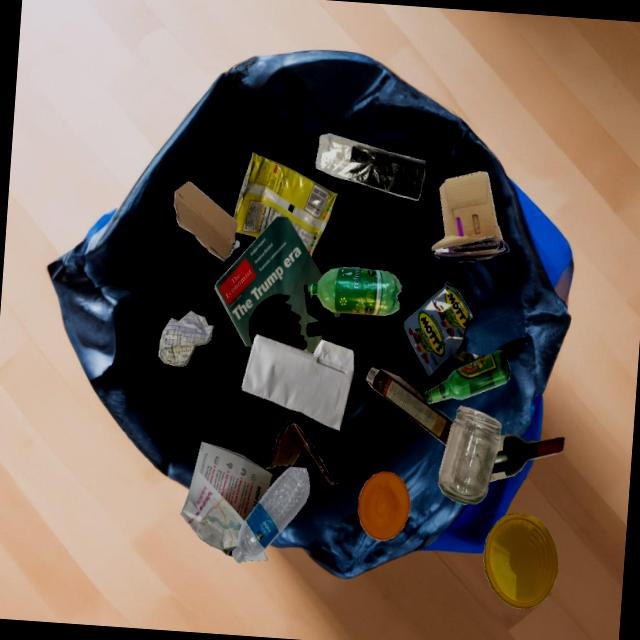cardboard: (431, 171, 509, 262), (366, 367, 453, 445), (173, 181, 239, 261), (265, 419, 337, 486)
glass: (438, 405, 501, 504), (421, 349, 509, 404), (489, 434, 564, 481)
paper: (214, 216, 340, 352), (241, 334, 353, 430), (180, 441, 272, 556), (158, 310, 213, 366)
plastic: (232, 466, 309, 563), (315, 133, 425, 200), (483, 513, 558, 609), (307, 267, 401, 315), (357, 471, 410, 540)
trash: (233, 152, 338, 258), (402, 281, 485, 377)
